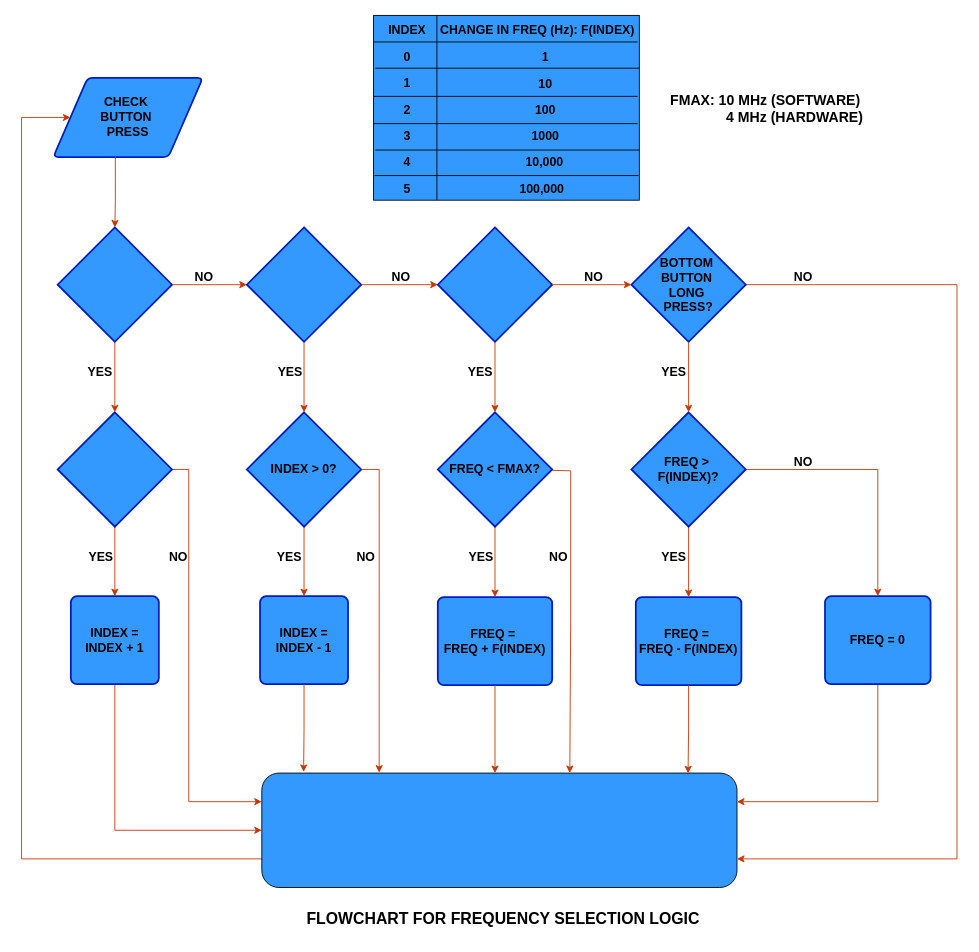
Image size: 979x952. Some labels were removed from this diagram. Each missing label, with the centre of its shape:
BOTTOM BUTTON SHORT PRESS?: the point at 304,284
INDEX < 5?: the point at 114,469
TOP BUTTON LONG PRESS?: the point at 494,284
TOP BUTTON SHORT PRESS?: the point at 114,284
UPDATE FREQUENCY DISPLAY: the point at 499,829
